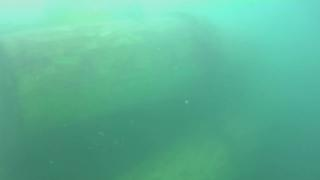pipe: (1, 9, 225, 140), (125, 120, 243, 180)
